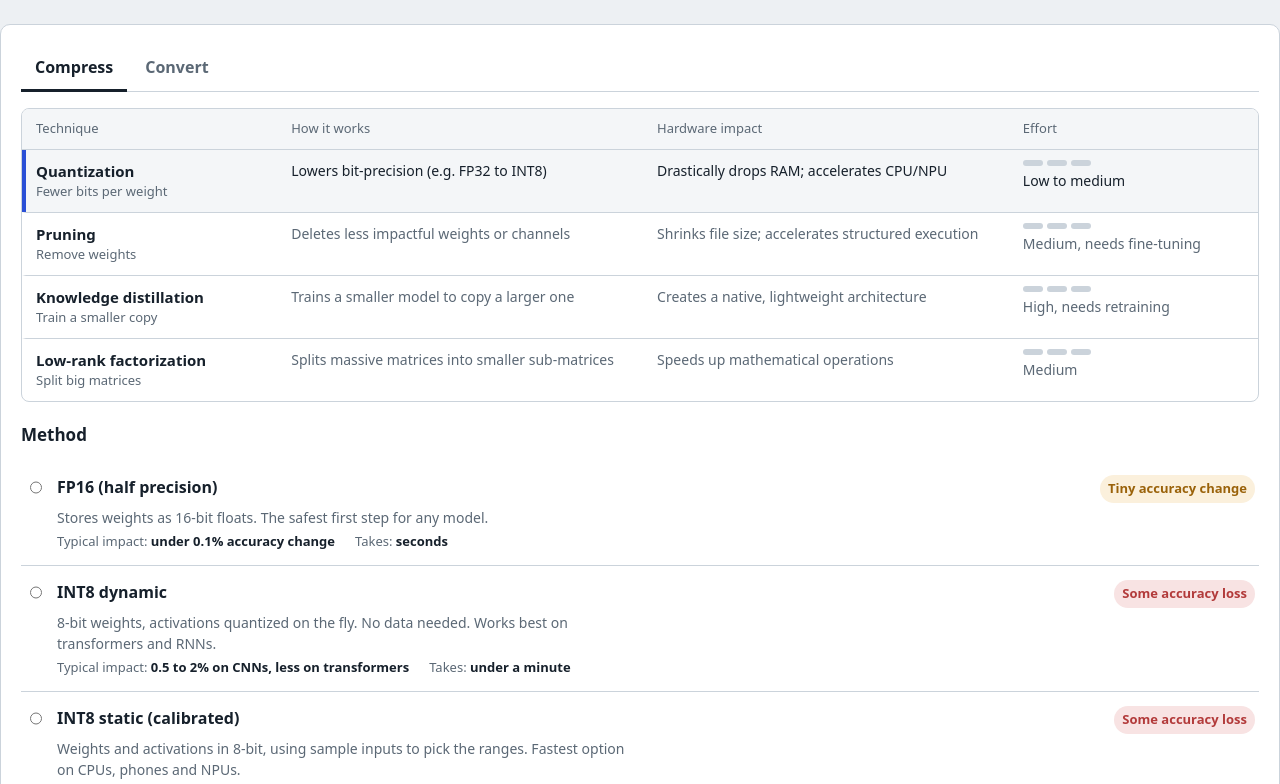
it: OperationPanel › shows method params and a run button once a method is selected
The width and height of the screenshot is (1280, 784).
Step 1. Click the radio button labelled "INT8 dynamic" → [36, 592], box [30,586,42,599]
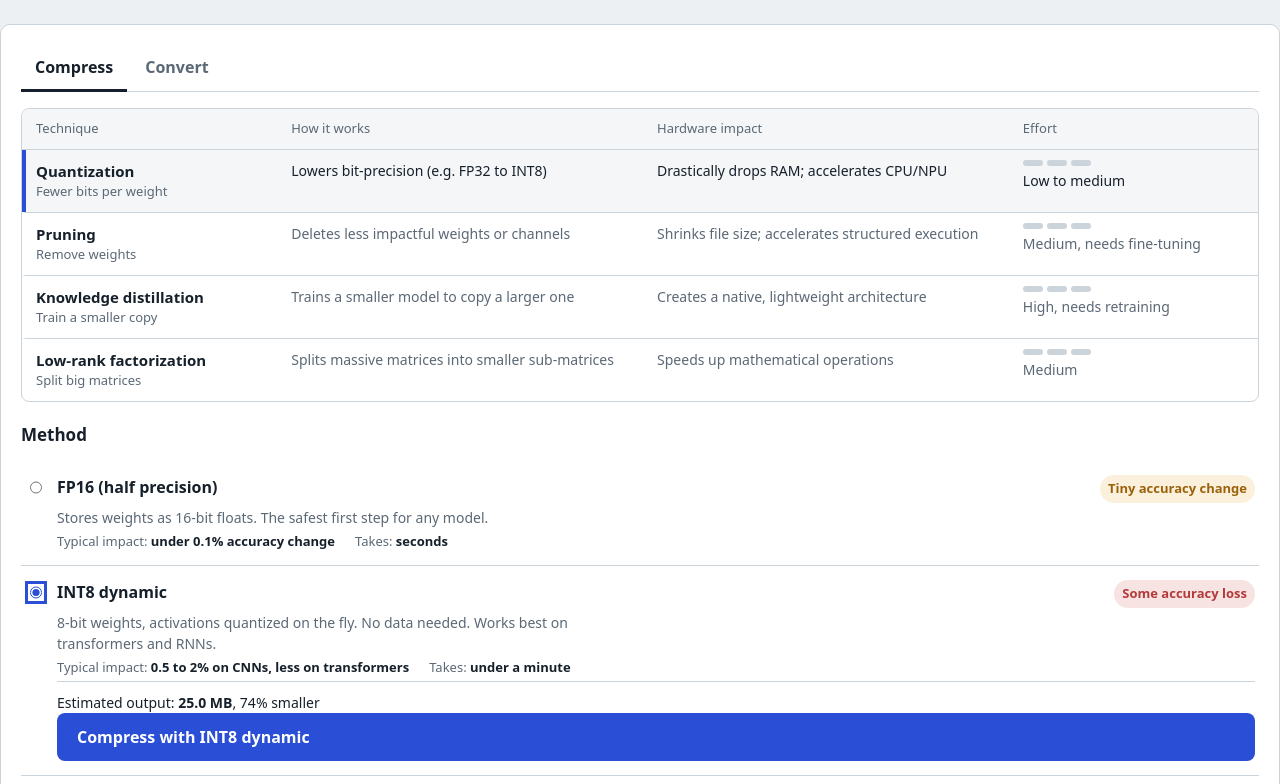
Result: the text "Estimated output: 25.0 MB, 74% smaller" is shown at [57,681,1255,713]
